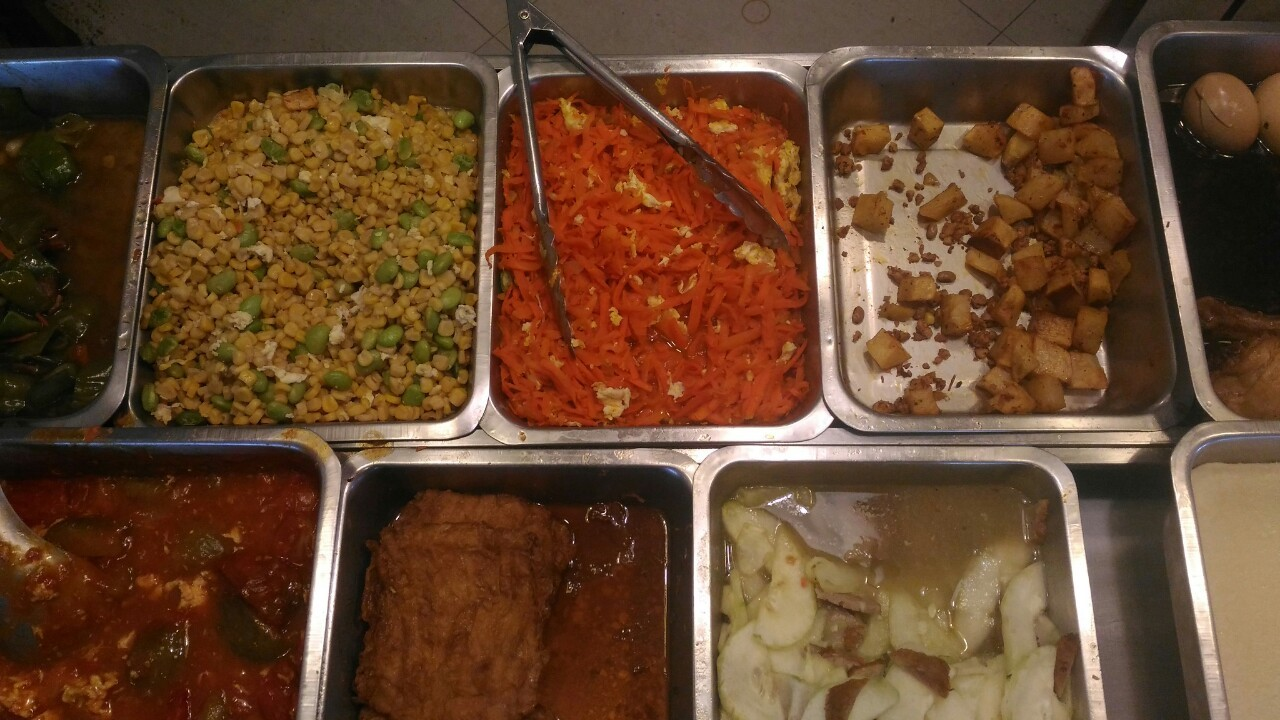carrot_eggs: (509, 101, 800, 420)
